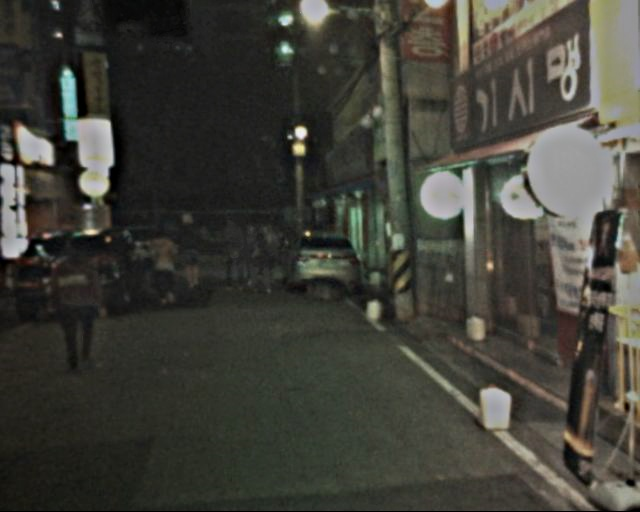person: (55, 226, 111, 375), (145, 221, 182, 311), (175, 206, 209, 292), (220, 212, 250, 294), (247, 220, 276, 298)
